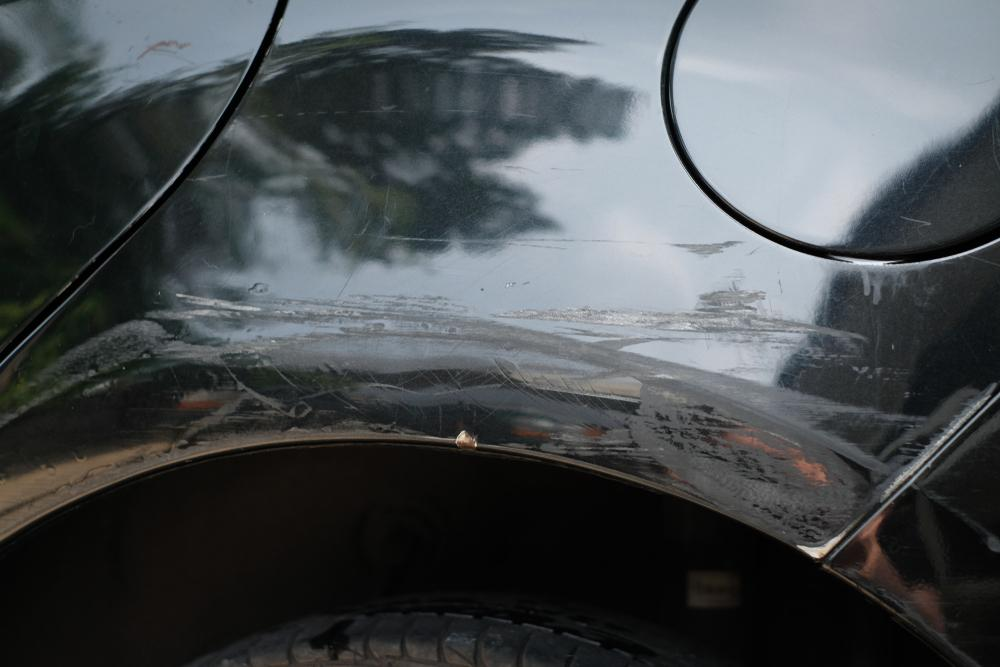scratch: (0, 235, 1000, 554)
